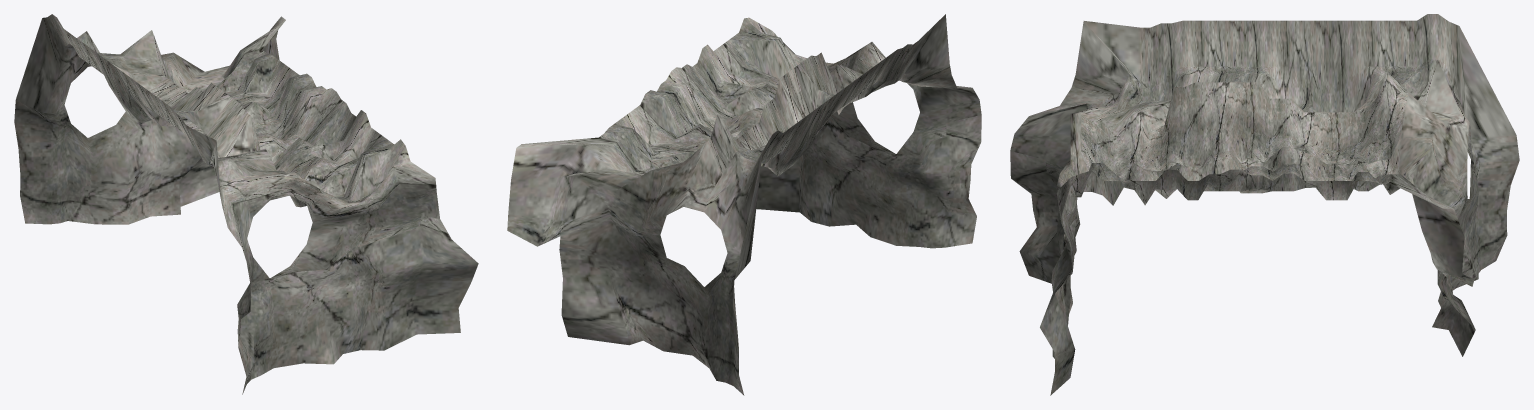
The model's file is DWARF_PALACE_MAINHALL_CELLING01.fbx.
The picture shows the model from 3 angles, left to right: view 1: azimuth 30°, elevation 25°; view 2: azimuth 150°, elevation 25°; view 3: azimuth 270°, elevation 25°; orthographic projection. The views are drawn at different scales.
Visible parts, largest first — view 1: DWARF_PALACE_MAINHALL_CELLING01; view 2: DWARF_PALACE_MAINHALL_CELLING01; view 3: DWARF_PALACE_MAINHALL_CELLING01.
Part boxes in pixels (left/top/right/bottom): DWARF_PALACE_MAINHALL_CELLING01: left=14, top=14, right=478, bottom=394; DWARF_PALACE_MAINHALL_CELLING01: left=507, top=14, right=981, bottom=395; DWARF_PALACE_MAINHALL_CELLING01: left=1010, top=14, right=1519, bottom=395.
Bounding box in the file's own units: 367643 × 353350 × 623366.
Materials: 1 (1 with a texture image).
